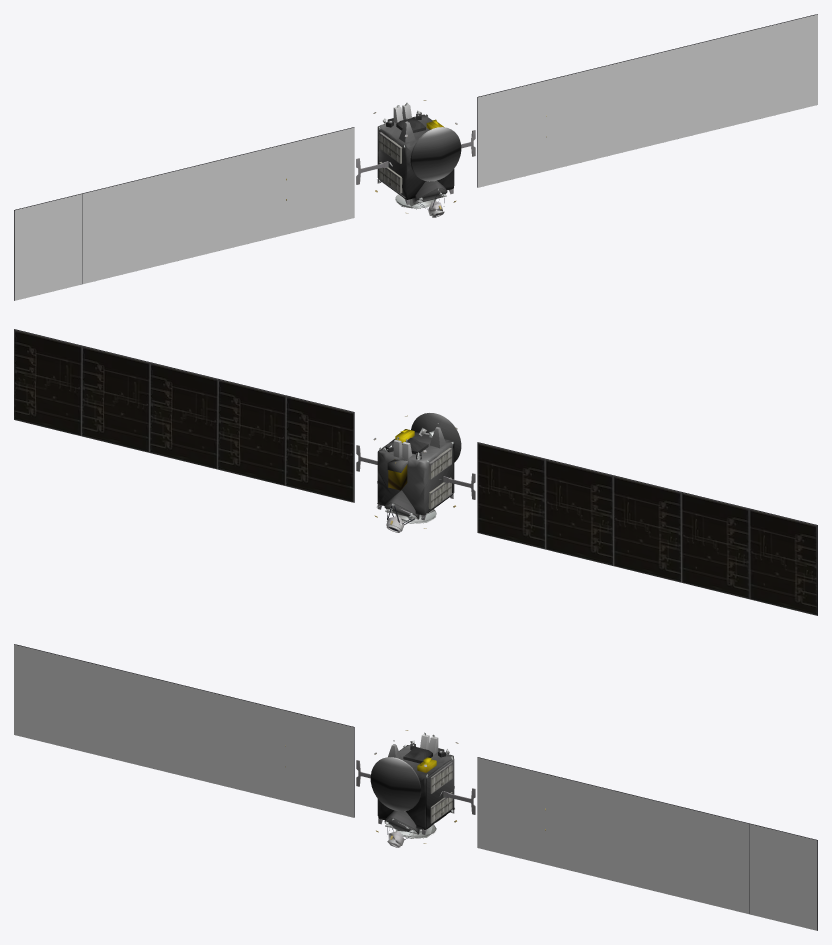
The model's file is dawn.glb.
The picture shows the model from 3 angles, top to bottom: view 1: azimuth 30°, elevation 25°; view 2: azimuth 150°, elevation 25°; view 3: azimuth 330°, elevation 25°; orthographic projection.
Visible parts, largest first — view 1: tex_01.002, black_krinkle, tex_01; view 2: tex_01, black_krinkle, foil_gold; view 3: tex_01.002, black_krinkle, tex_01.
Boxes of the visible parts, bbox=[...] form: tex_01.002: bbox=[14, 14, 817, 300]; black_krinkle: bbox=[377, 104, 461, 208]; tex_01: bbox=[14, 14, 817, 300]; tex_01: bbox=[14, 329, 817, 615]; black_krinkle: bbox=[377, 413, 461, 523]; foil_gold: bbox=[388, 429, 414, 490]; tex_01.002: bbox=[14, 644, 817, 930]; black_krinkle: bbox=[370, 734, 454, 838]; tex_01: bbox=[14, 644, 817, 930].
Bounding box in the file's own units: 19.7 × 2.19 × 2.14.
Materials: 4 (3 with a texture image).
